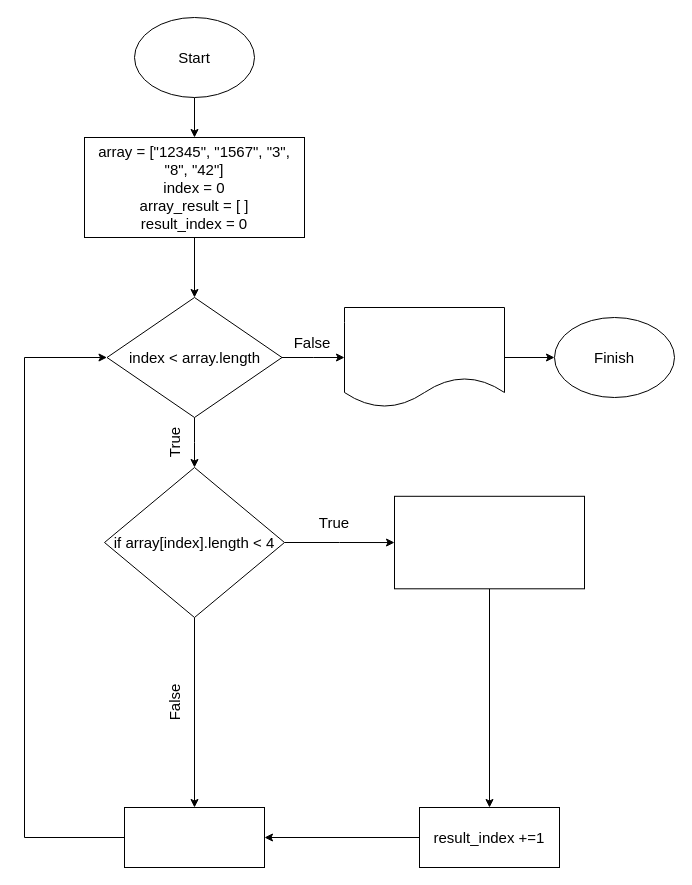
Some shapes in this 692 by 885 pixel diagram are drawn without their labels. Each missing label, with the centre of its shape:
"index +=1" goes at point (194, 837).
"print(array_result)" goes at point (424, 357).
"result_array[result_index] = array[index]" goes at point (489, 542).
